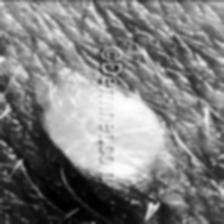Toxin: (54, 83, 102, 185), (118, 88, 165, 179)
